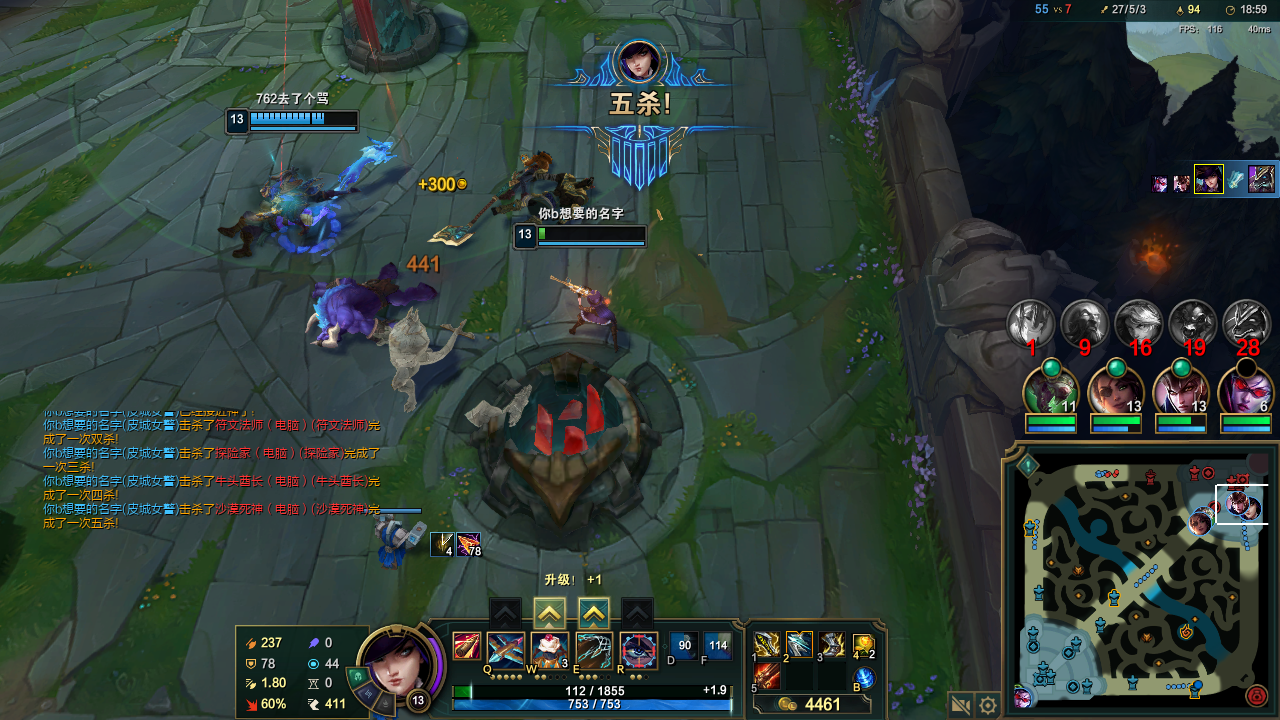DFFYT: (335, 14, 452, 75)
KF: (789, 634, 814, 648)
Shenji: (580, 601, 605, 632)
Tuijianshengji: (537, 604, 563, 624)
WFXB: (370, 518, 425, 558)
